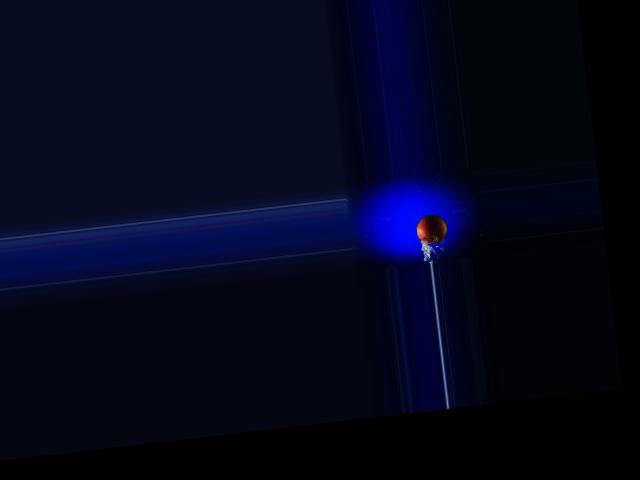tomato: (415, 213, 449, 245)
